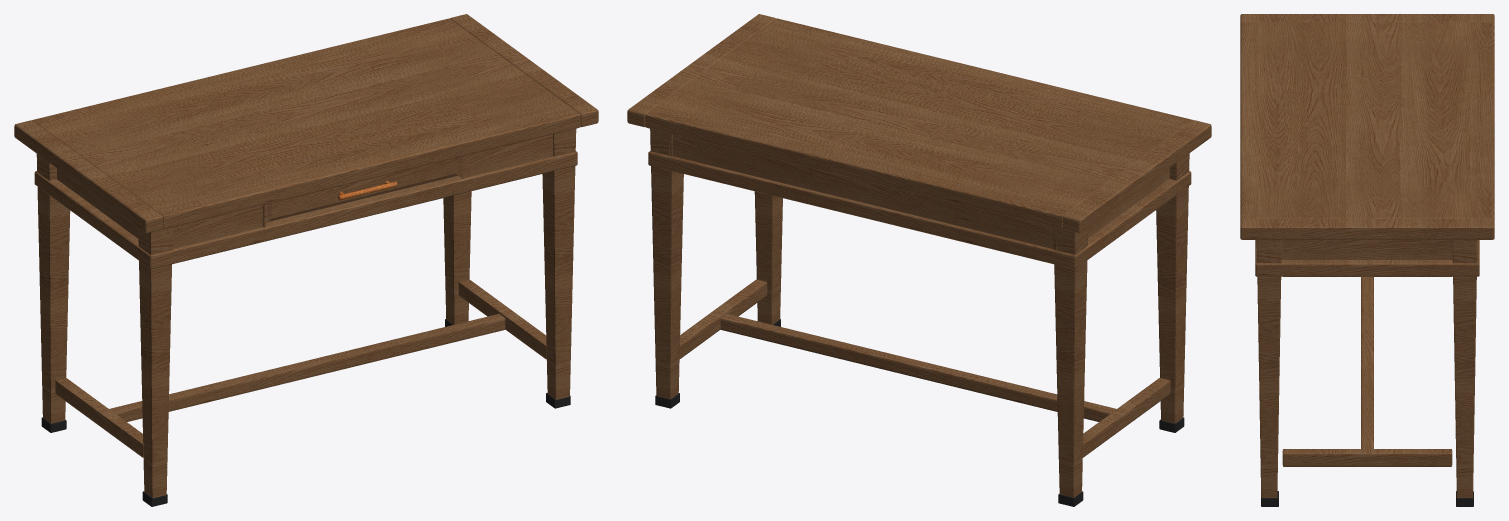
File: table.glb
3 renders of one model, left to right at view 1: azimuth 30°, elevation 25°; view 2: azimuth 150°, elevation 25°; view 3: azimuth 270°, elevation 25°, orthographic. The views are drawn at different scales.
Parts seen in each view (by area): view 1: Cube.002, Cube.021, Cube.010, Cube.012, Cube.020, Cube.014, Cube.022, Cube.003, Cube.016, Cube.004, Cube.018, Cube.008 (+3 smaller); view 2: Cube.002, Cube.021, Cube.005, Cube.014, Cube.016, Cube.020, Cube.010, Cube.003, Cube.012, Cube.004, Cube.018, Cube.019 (+1 smaller); view 3: Cube.002, Cube.004, Cube.016, Cube.012, Cube.021, Cube.007, Cube.019, Cube.003, Cube.020.
Part boxes in pixels (left/top/right/bottom): Cube.002: left=32, top=18, right=580, bottom=228; Cube.021: left=34, top=151, right=577, bottom=269; Cube.010: left=138, top=227, right=172, bottom=498; Cube.012: left=542, top=128, right=576, bottom=399; Cube.020: left=109, top=314, right=505, bottom=421; Cube.014: left=36, top=154, right=70, bottom=423; Cube.022: left=263, top=156, right=463, bottom=227; Cube.003: left=14, top=120, right=162, bottom=233; Cube.016: left=443, top=191, right=471, bottom=324; Cube.004: left=450, top=14, right=598, bottom=127; Cube.018: left=55, top=378, right=143, bottom=457; Cube.008: left=172, top=205, right=263, bottom=248; Cube.002: left=645, top=18, right=1193, bottom=228; Cube.021: left=648, top=151, right=1191, bottom=269; Cube.005: left=668, top=134, right=1056, bottom=250; Cube.014: left=1053, top=227, right=1088, bottom=497; Cube.016: left=650, top=128, right=683, bottom=398; Cube.020: left=720, top=314, right=1116, bottom=421; Cube.010: left=1156, top=153, right=1189, bottom=423; Cube.003: left=1063, top=120, right=1211, bottom=233; Cube.012: left=754, top=191, right=782, bottom=324; Cube.004: left=627, top=14, right=775, bottom=127; Cube.018: left=1083, top=378, right=1170, bottom=457; Cube.019: left=679, top=279, right=767, bottom=358; Cube.002: left=1240, top=22, right=1494, bottom=219; Cube.004: left=1240, top=219, right=1494, bottom=239; Cube.016: left=1452, top=240, right=1477, bottom=497; Cube.012: left=1256, top=240, right=1281, bottom=497; Cube.021: left=1255, top=240, right=1479, bottom=276; Cube.007: left=1281, top=240, right=1452, bottom=259; Cube.019: left=1282, top=449, right=1452, bottom=466; Cube.003: left=1240, top=14, right=1494, bottom=23; Cube.020: left=1361, top=276, right=1373, bottom=448.
Bounding box in the file's own units: 1.19 × 0.751 × 0.6.
3 materials, 3 textured.
